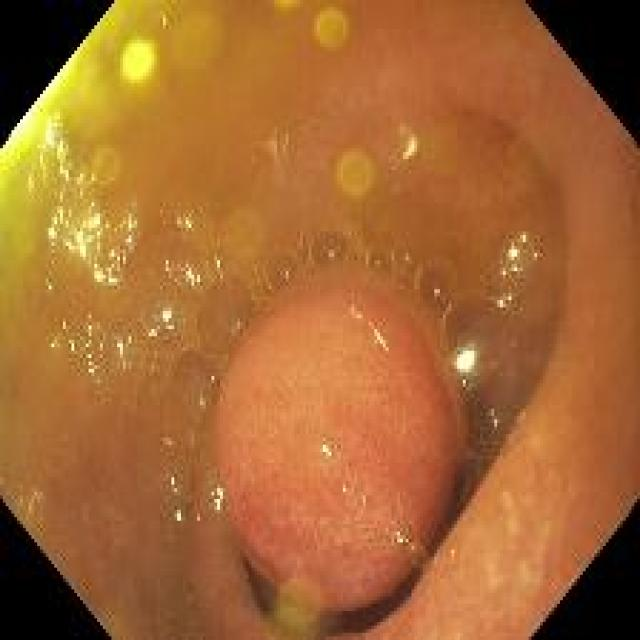Polyps: (214, 272, 468, 626)
